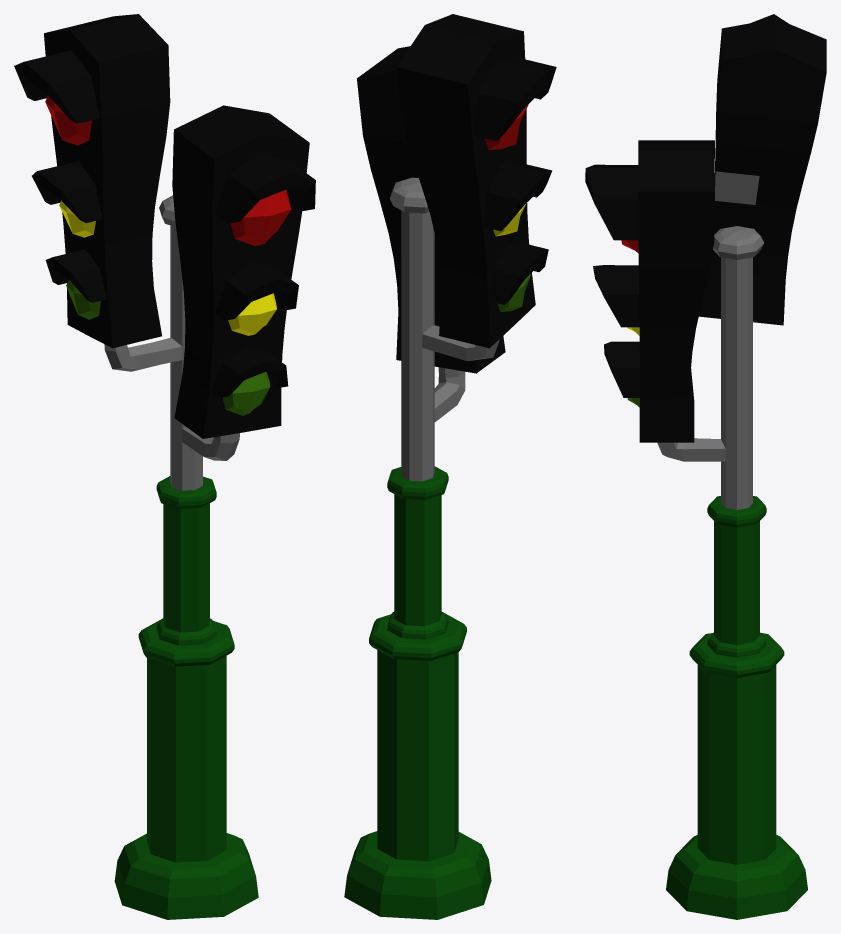
The model's file is RedLightBig.fbx.
The picture shows the model from 3 angles, left to right: view 1: azimuth 30°, elevation 25°; view 2: azimuth 150°, elevation 25°; view 3: azimuth 270°, elevation 25°; orthographic projection. The views are drawn at different scales.
Visible parts, largest first — view 1: Cube.020; view 2: Cube.020; view 3: Cube.020.
Part boxes in pixels (left/top/right/bottom): Cube.020: left=14, top=14, right=315, bottom=919; Cube.020: left=344, top=14, right=556, bottom=919; Cube.020: left=585, top=14, right=826, bottom=919.
Bounding box in the file's own units: 71.23 × 274 × 72.52.
